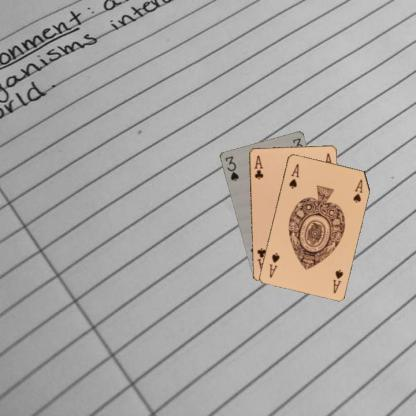3s: (222, 153, 240, 182)
Ac: (251, 153, 264, 180)
As: (286, 160, 300, 190), (330, 267, 344, 294)
